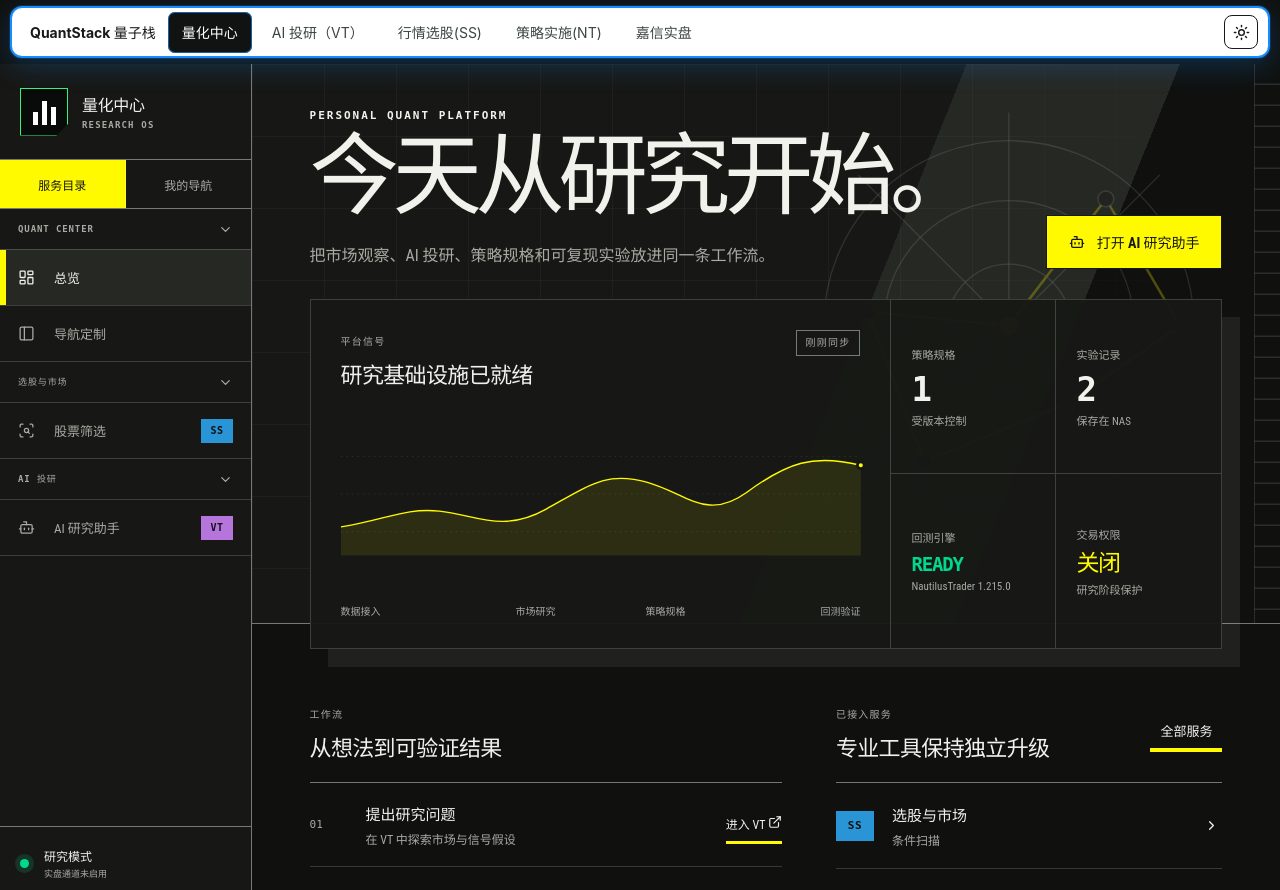
Test: Quant Center › keeps the platform identity visible and switches the shared theme
expect the text "QuantStack 量子栈" is shown: met, box [30,22,156,42]
What coordinates should you click on to do the following:
click the button named "切换到浅色模式"
I would click on:
 (1241, 32)
Its box is [1224,15,1258,49].
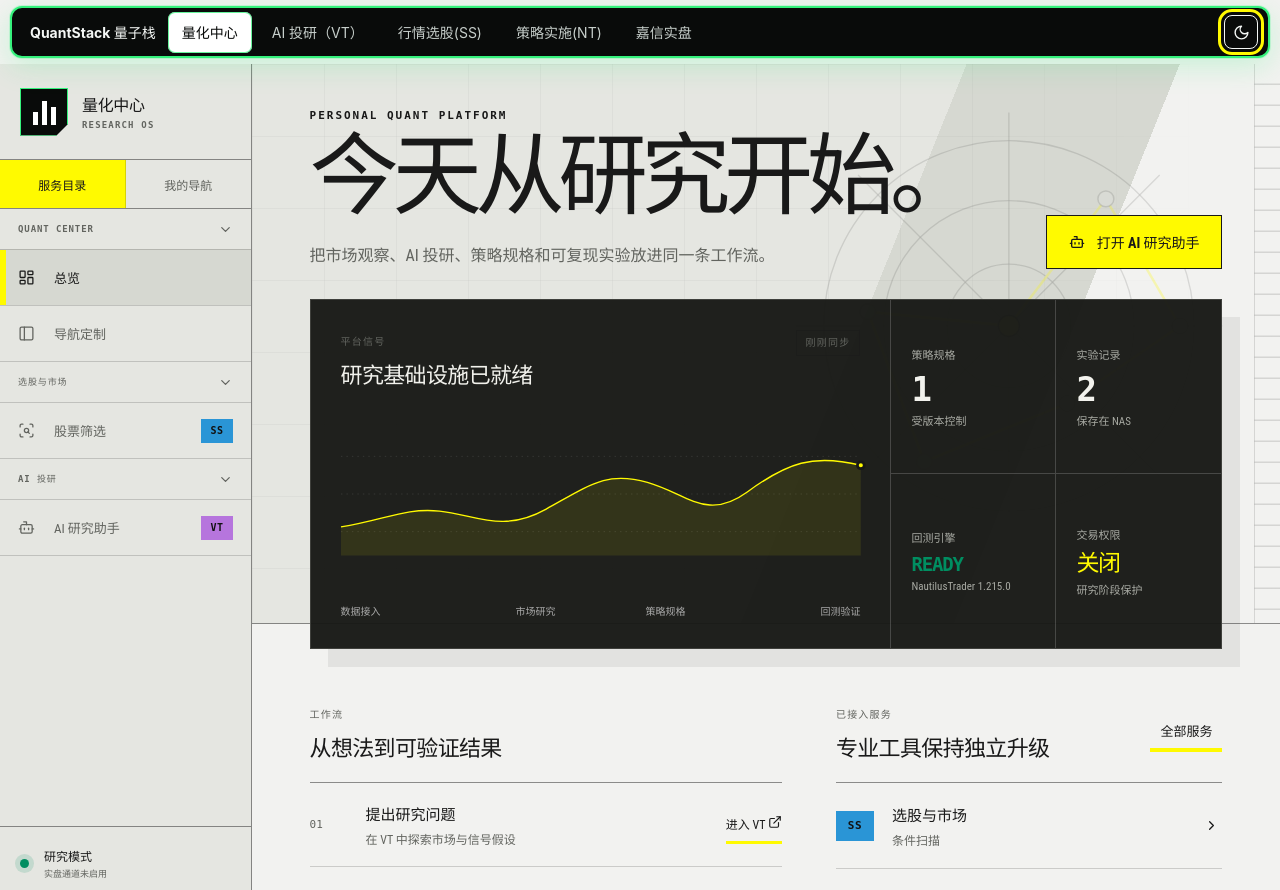
expect the button named "切换到深色模式" is shown: met, box [1224,15,1258,49]
